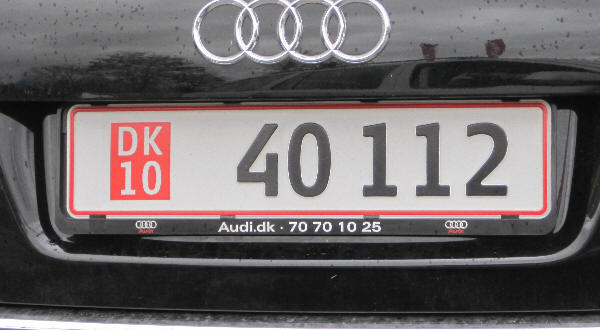license_plate: (66, 103, 551, 221)
